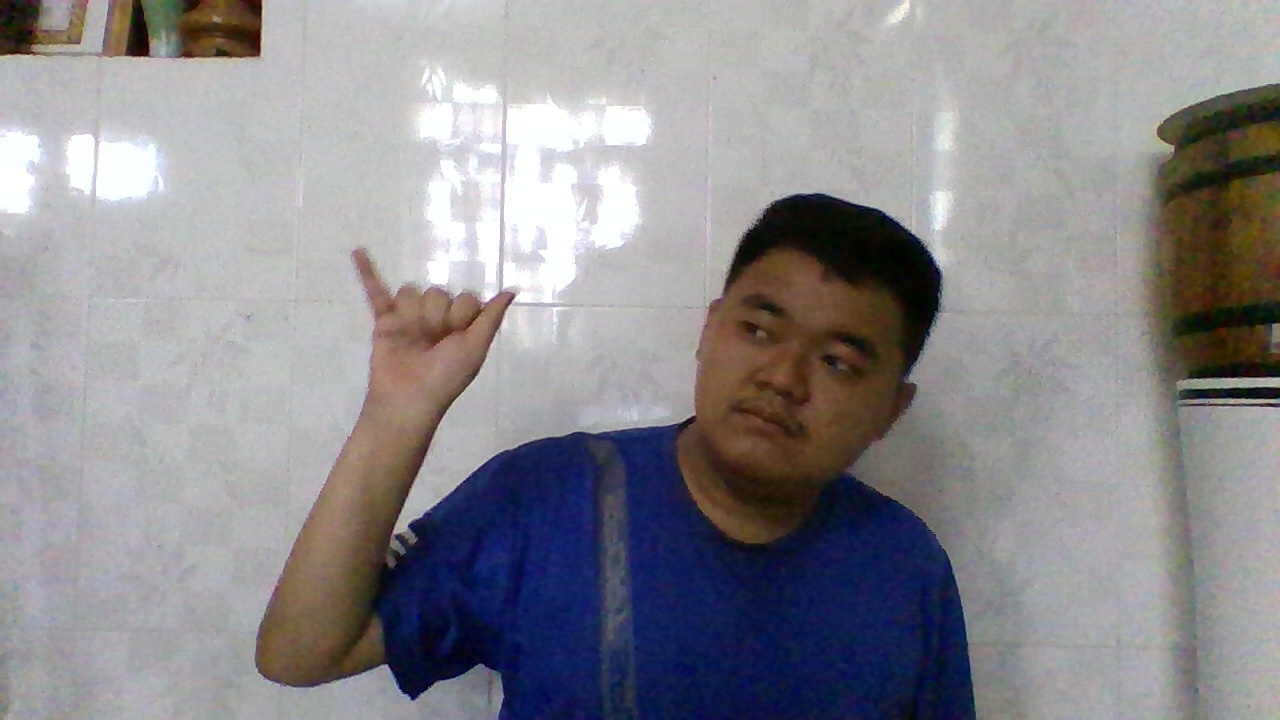Y: (339, 237, 526, 415)
